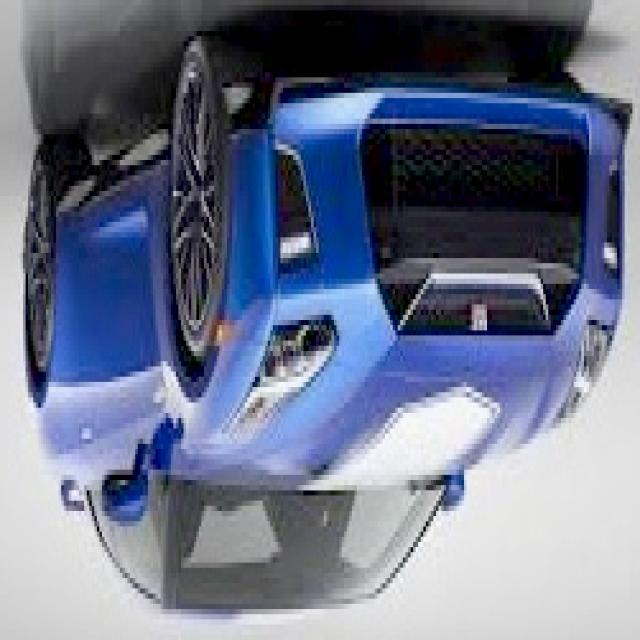blue: (0, 5, 625, 640)
